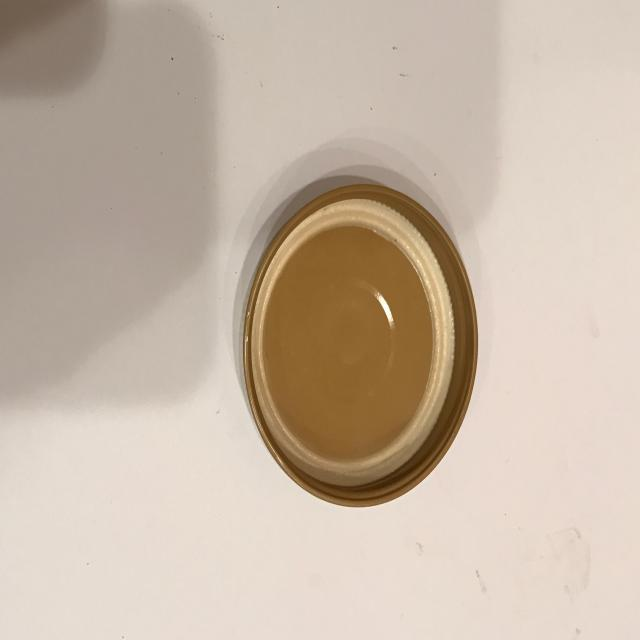metal: (241, 182, 479, 508)
